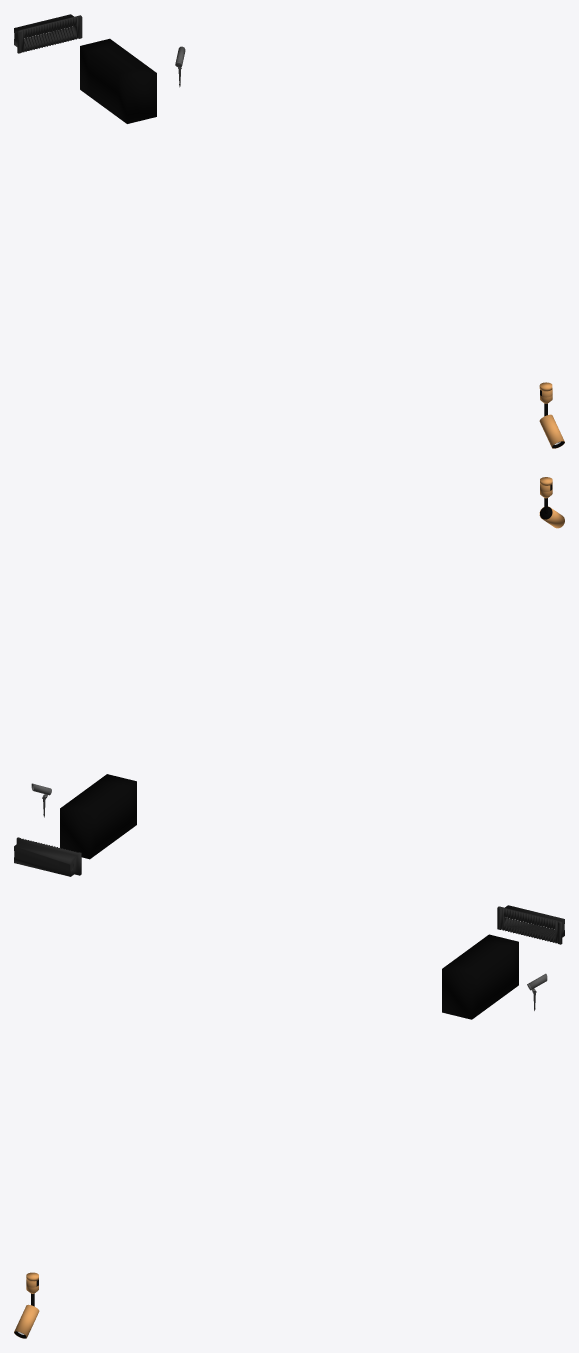
Rendered from Watcher.glb.
The picture shows the model from 3 angles, top to bottom: view 1: azimuth 30°, elevation 25°; view 2: azimuth 150°, elevation 25°; view 3: azimuth 330°, elevation 25°; orthographic projection.
Visible parts, largest first — view 1: Cube.007, Cube.031; view 2: Cube.007, Cube.031; view 3: Cube.007, Cube.031.
Boxes of the visible parts, x1,y1,x2,y2 form: Cube.007: (80,38,156,123); Cube.031: (14,14,82,53); Cube.007: (60,774,136,859); Cube.031: (14,837,81,876); Cube.007: (442,934,518,1019); Cube.031: (497,905,564,944).
Size of the model in its own units: 5.74 by 2.95 by 47.56.
